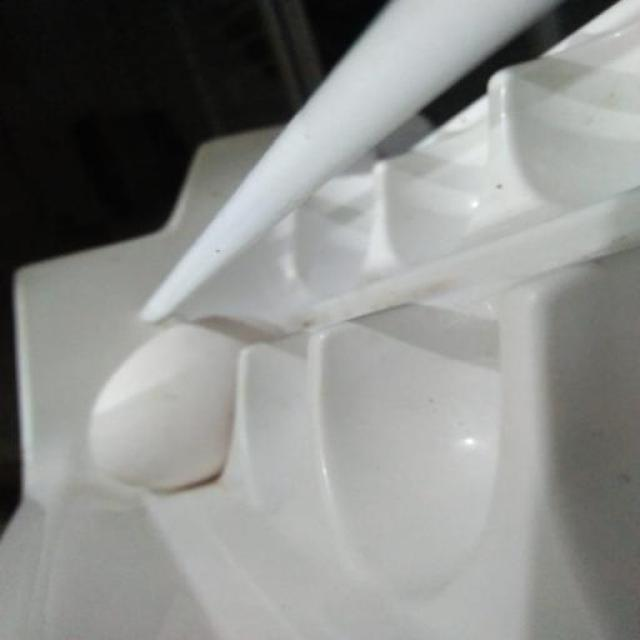telur: (86, 323, 243, 492)
